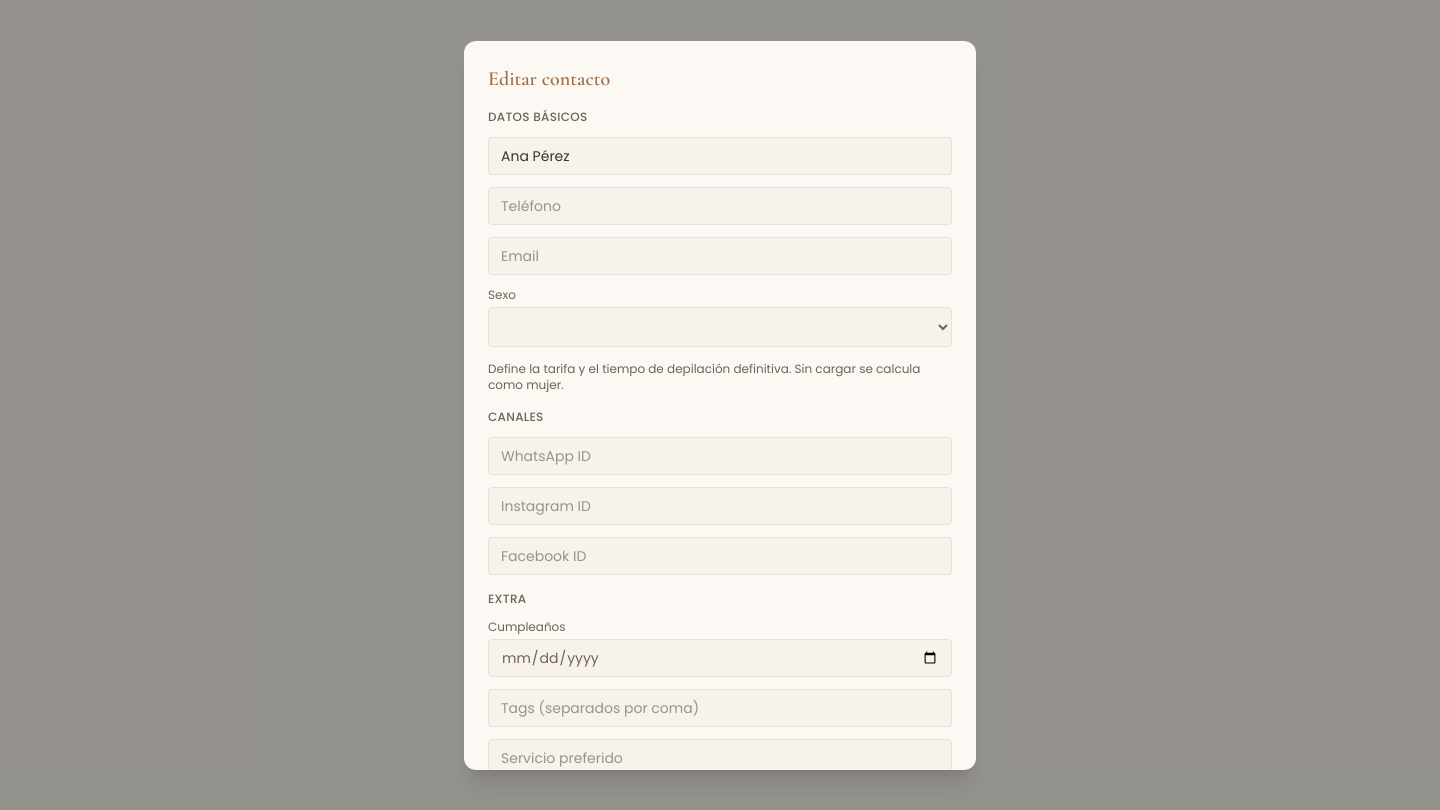
ContactFormModal — aviso del número › avisa también si el Teléfono trae 15
The width and height of the screenshot is (1440, 810).
Type "1530317884" into the field with placeholder "Teléfono" at (720, 206), box [488, 186, 952, 224]
(page scrolled)
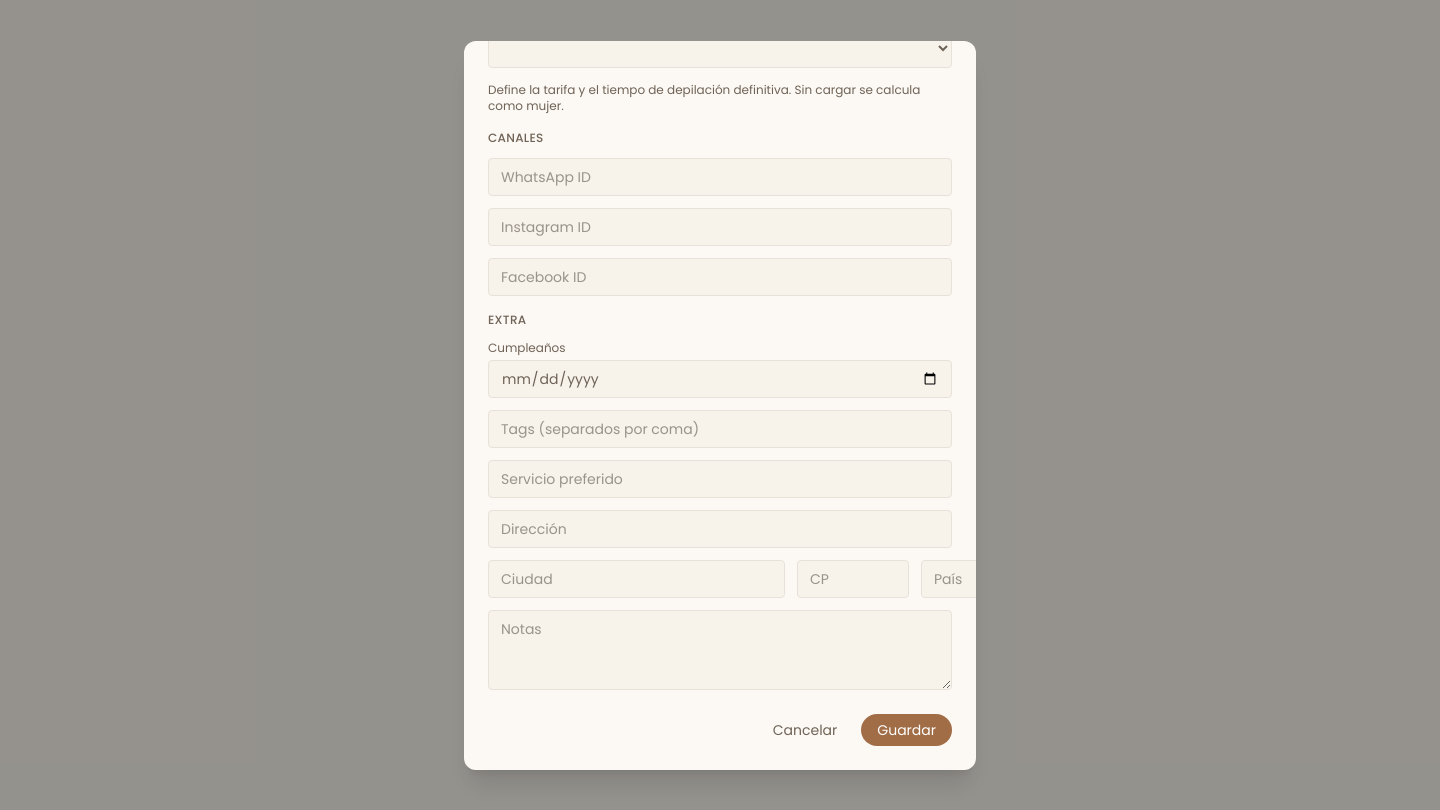
Click the button "Guardar" at (907, 730), box [861, 714, 952, 746]
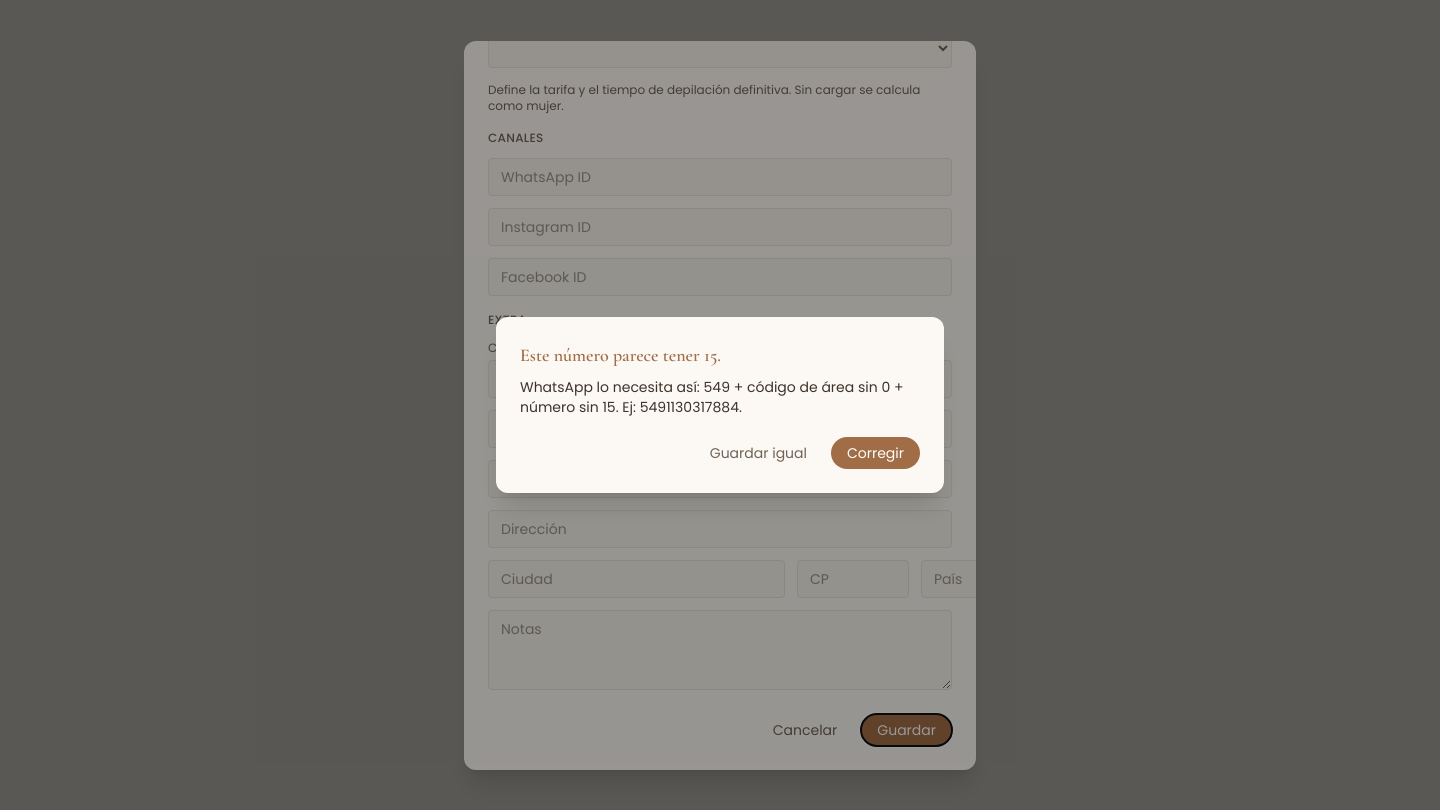
Result: the text "WhatsApp lo necesita así: 549 + código de área sin 0 + número sin 15. Ej: 5491130317884." is shown at [520, 377, 904, 417]
